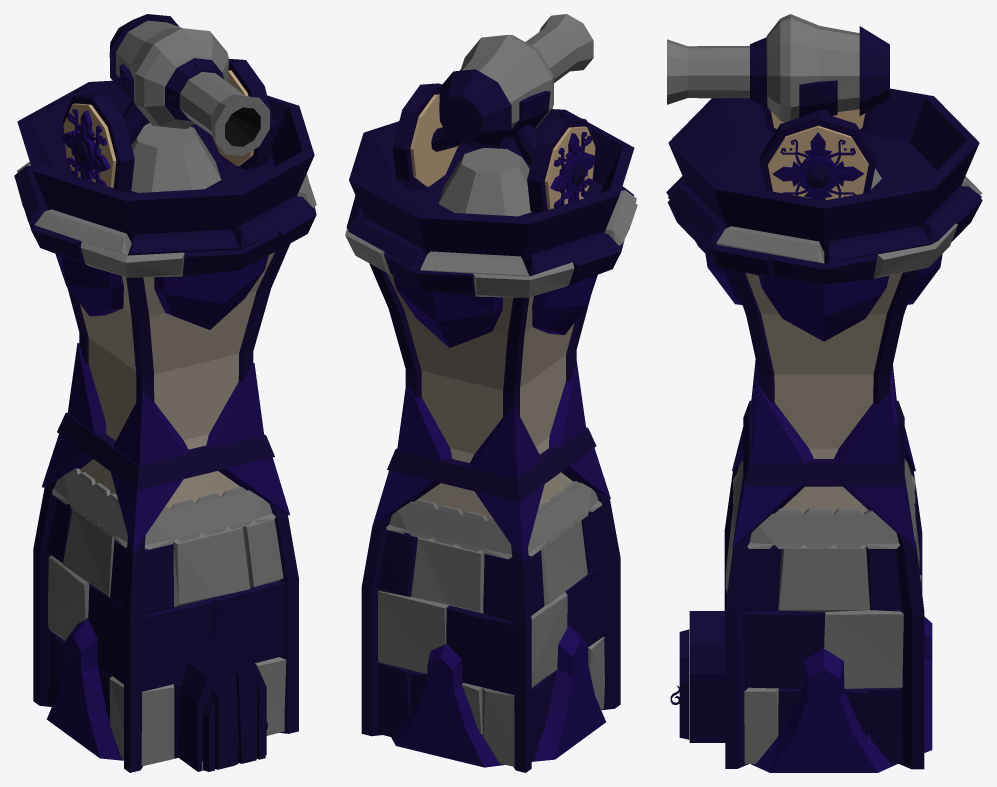
The model's file is blue_side_turret.glb.
The picture shows the model from 3 angles, left to right: view 1: azimuth 30°, elevation 25°; view 2: azimuth 150°, elevation 25°; view 3: azimuth 270°, elevation 25°; orthographic projection. The views are drawn at different scales.
Parts seen in each view (by area): view 1: Cannon_tower_LVL_2; view 2: Cannon_tower_LVL_2; view 3: Cannon_tower_LVL_2.
Part boxes in pixels (x1=…): Cannon_tower_LVL_2: x1=14, y1=14, x2=316, y2=772; Cannon_tower_LVL_2: x1=345, y1=14, x2=637, y2=772; Cannon_tower_LVL_2: x1=666, y1=14, x2=982, y2=772.
Bounding box in the file's own units: 6.04 × 14.88 × 6.03.
Materials: 1 (1 with a texture image).
